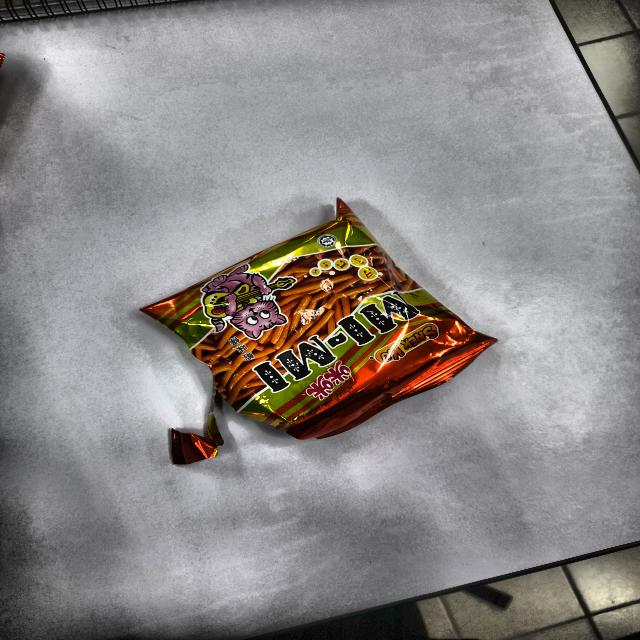Plastic: (135, 196, 490, 423)
